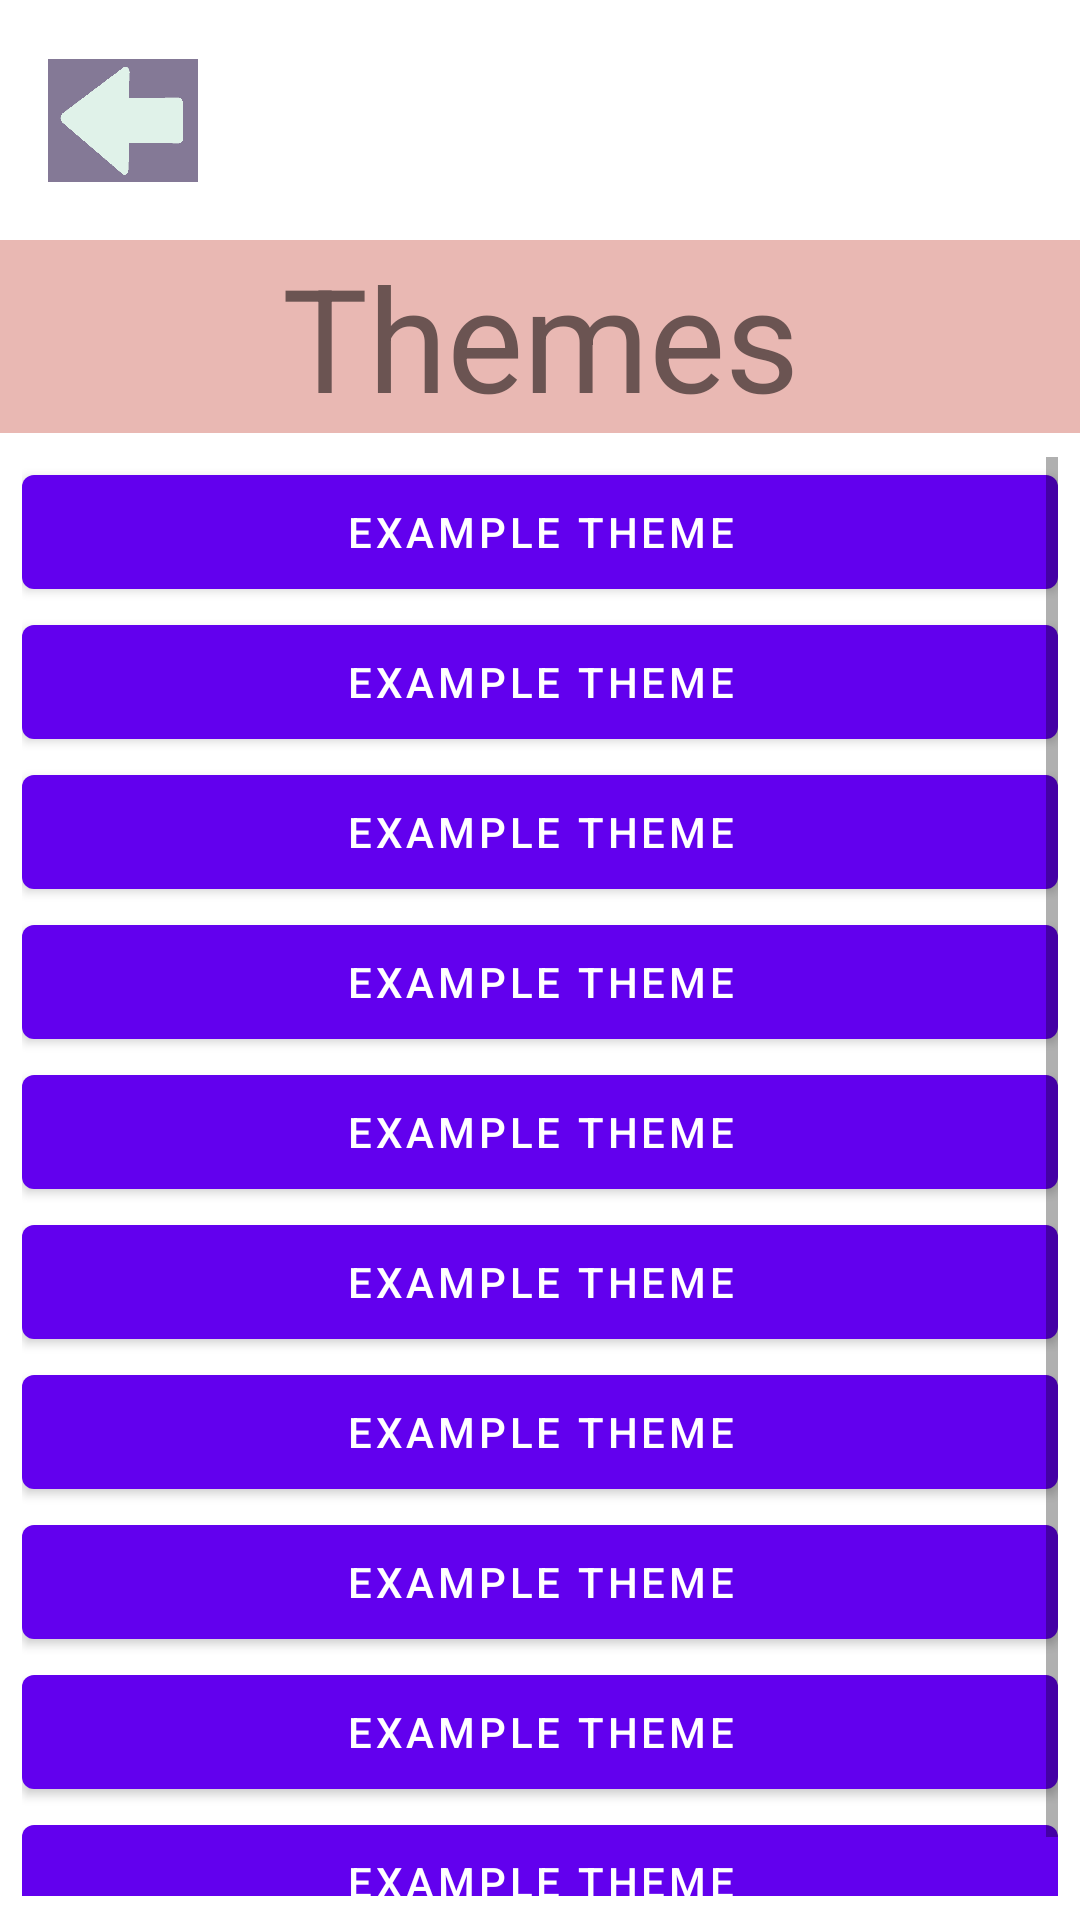

Screen size 1080px×1920px. Icon name, then its center in pixels as (x,y):
Small arrow to go up to previous menu: (123,120)
